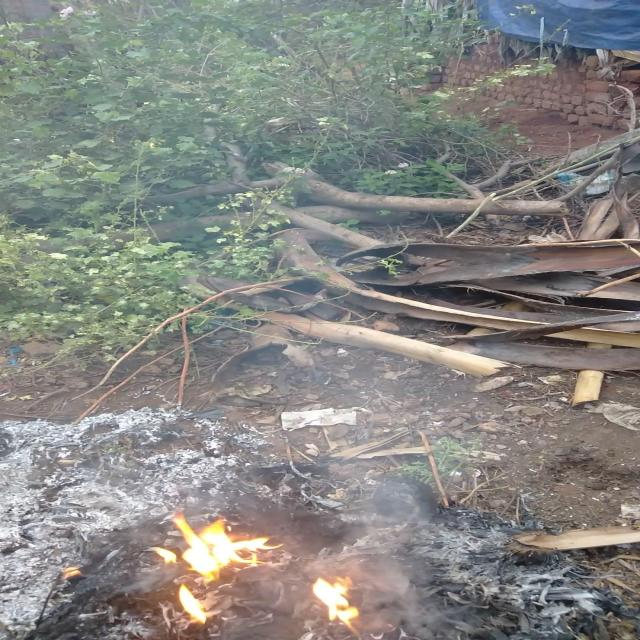Fire: (142, 510, 384, 633)
Smoke: (287, 404, 504, 502)
